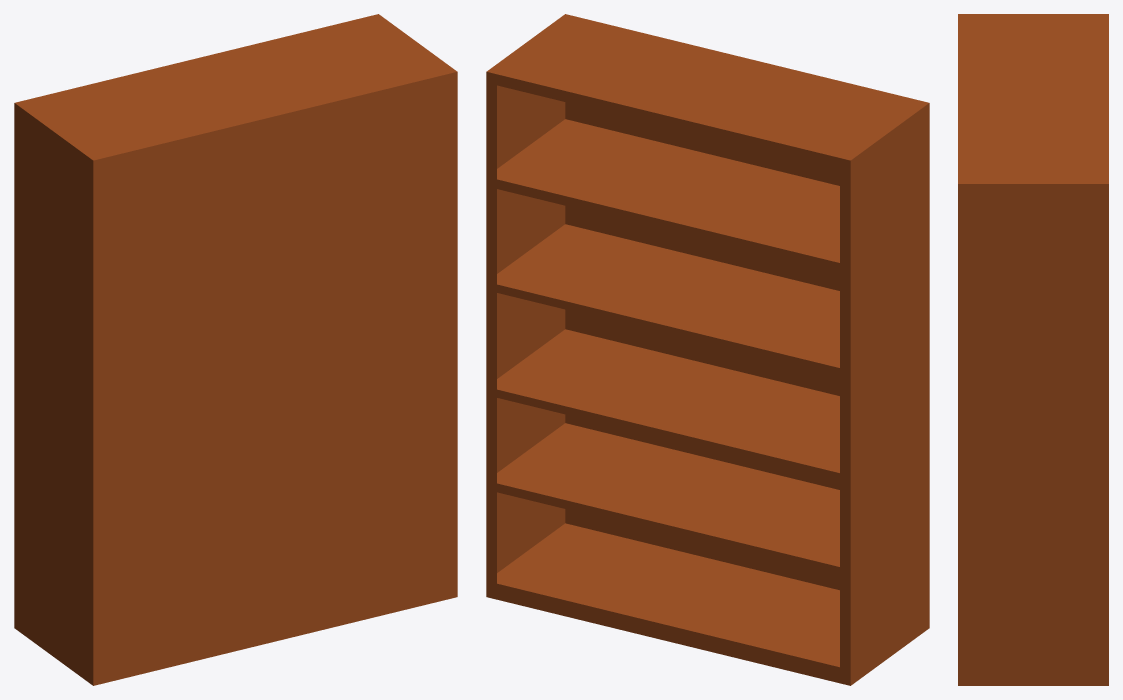
Rendered from Shelf.glb.
3 views of the same model, side by side, from view 1: azimuth 30°, elevation 25°; view 2: azimuth 150°, elevation 25°; view 3: azimuth 270°, elevation 25° (orthographic). The views are drawn at different scales.
Parts seen in each view (by area): view 1: Shelf; view 2: Shelf; view 3: Shelf.
Boxes of the visible parts, bbox=[...] form: Shelf: bbox=[14, 14, 457, 685]; Shelf: bbox=[486, 14, 929, 685]; Shelf: bbox=[958, 14, 1108, 685].
Bounding box in the file's own units: 4.41 × 6.08 × 1.65.
